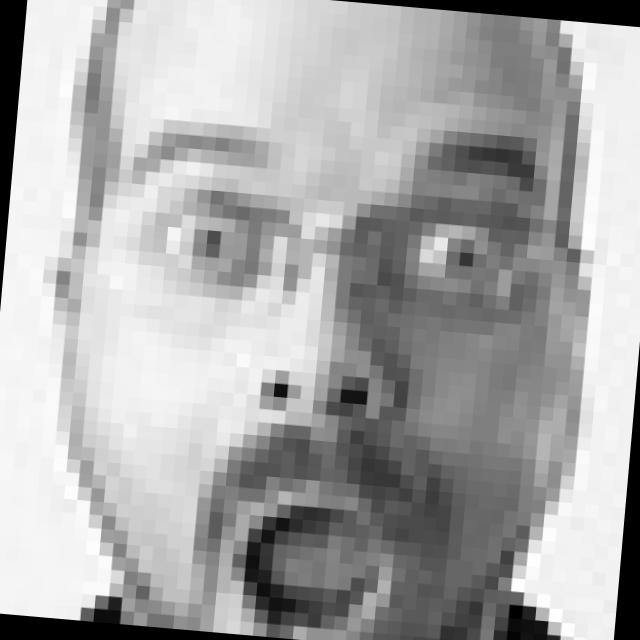surprise: (75, 109, 560, 640)
